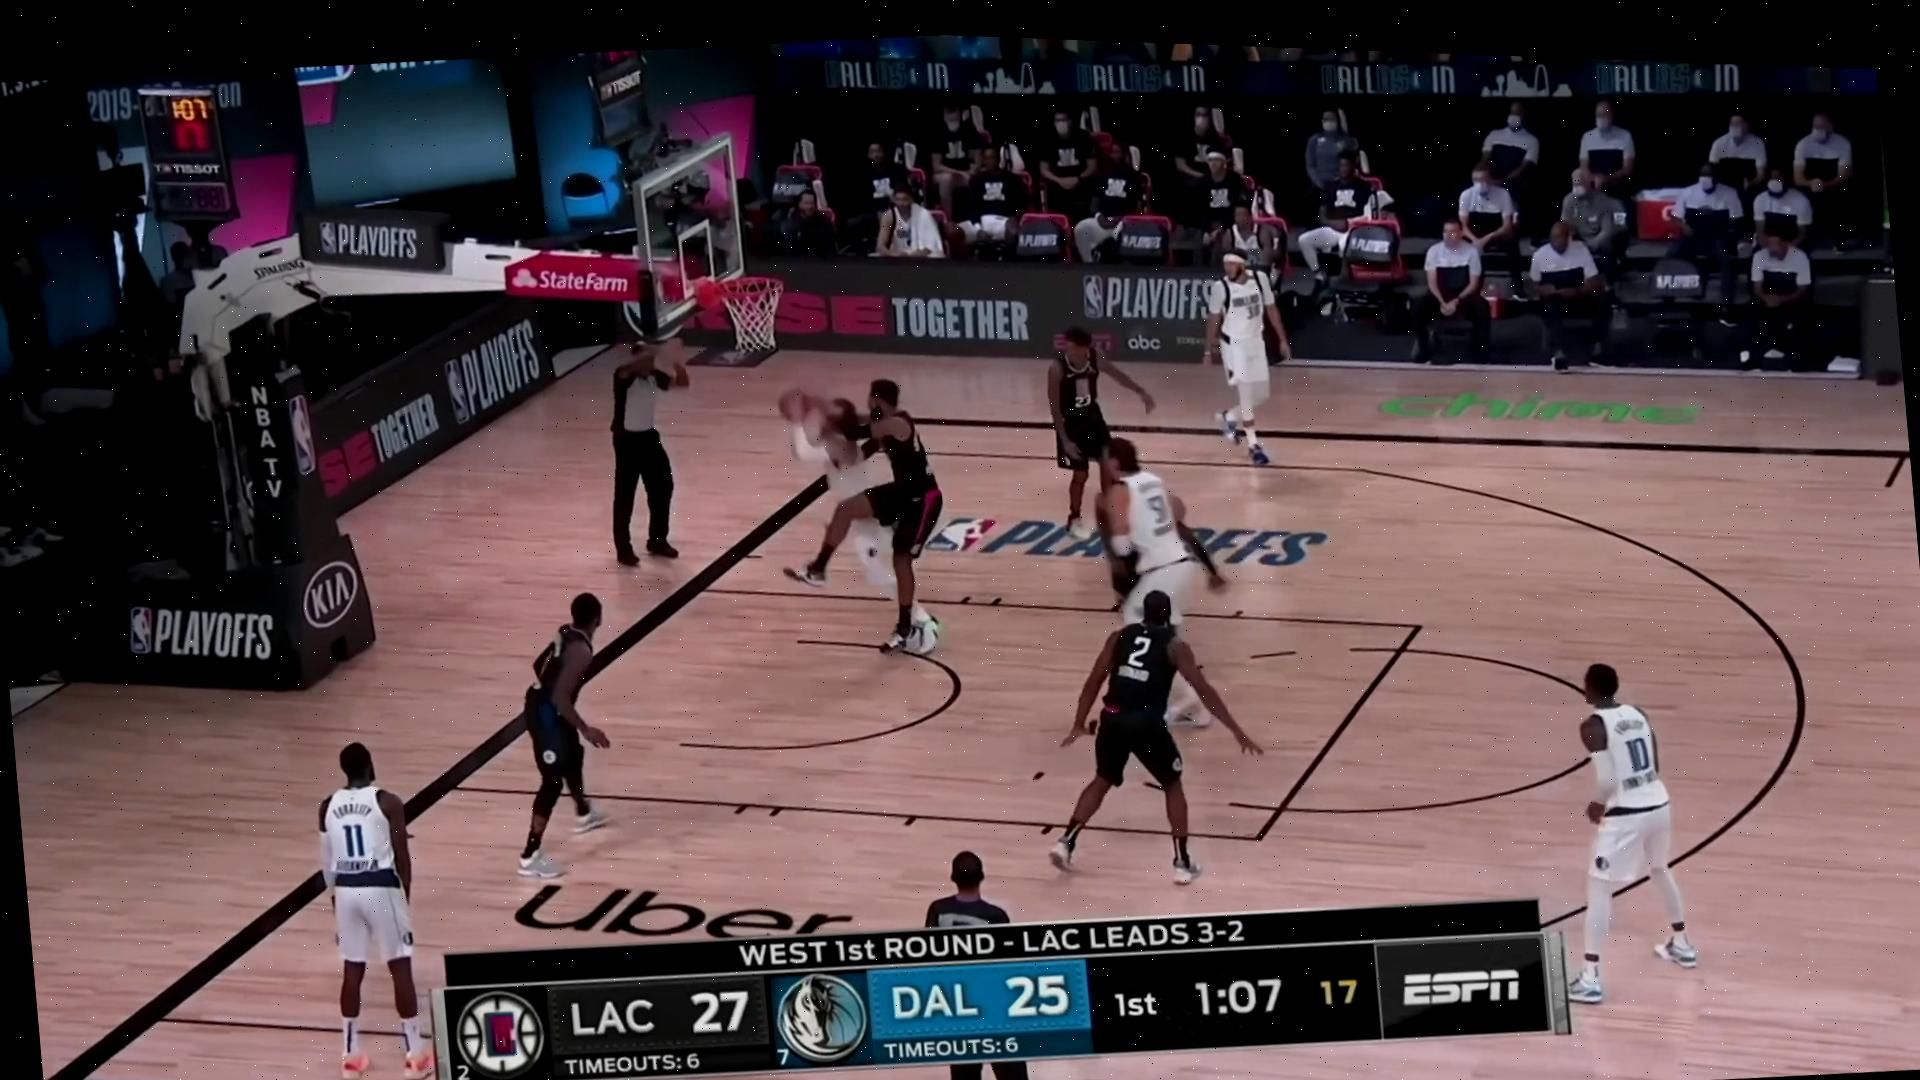foul: (736, 326, 997, 695)
